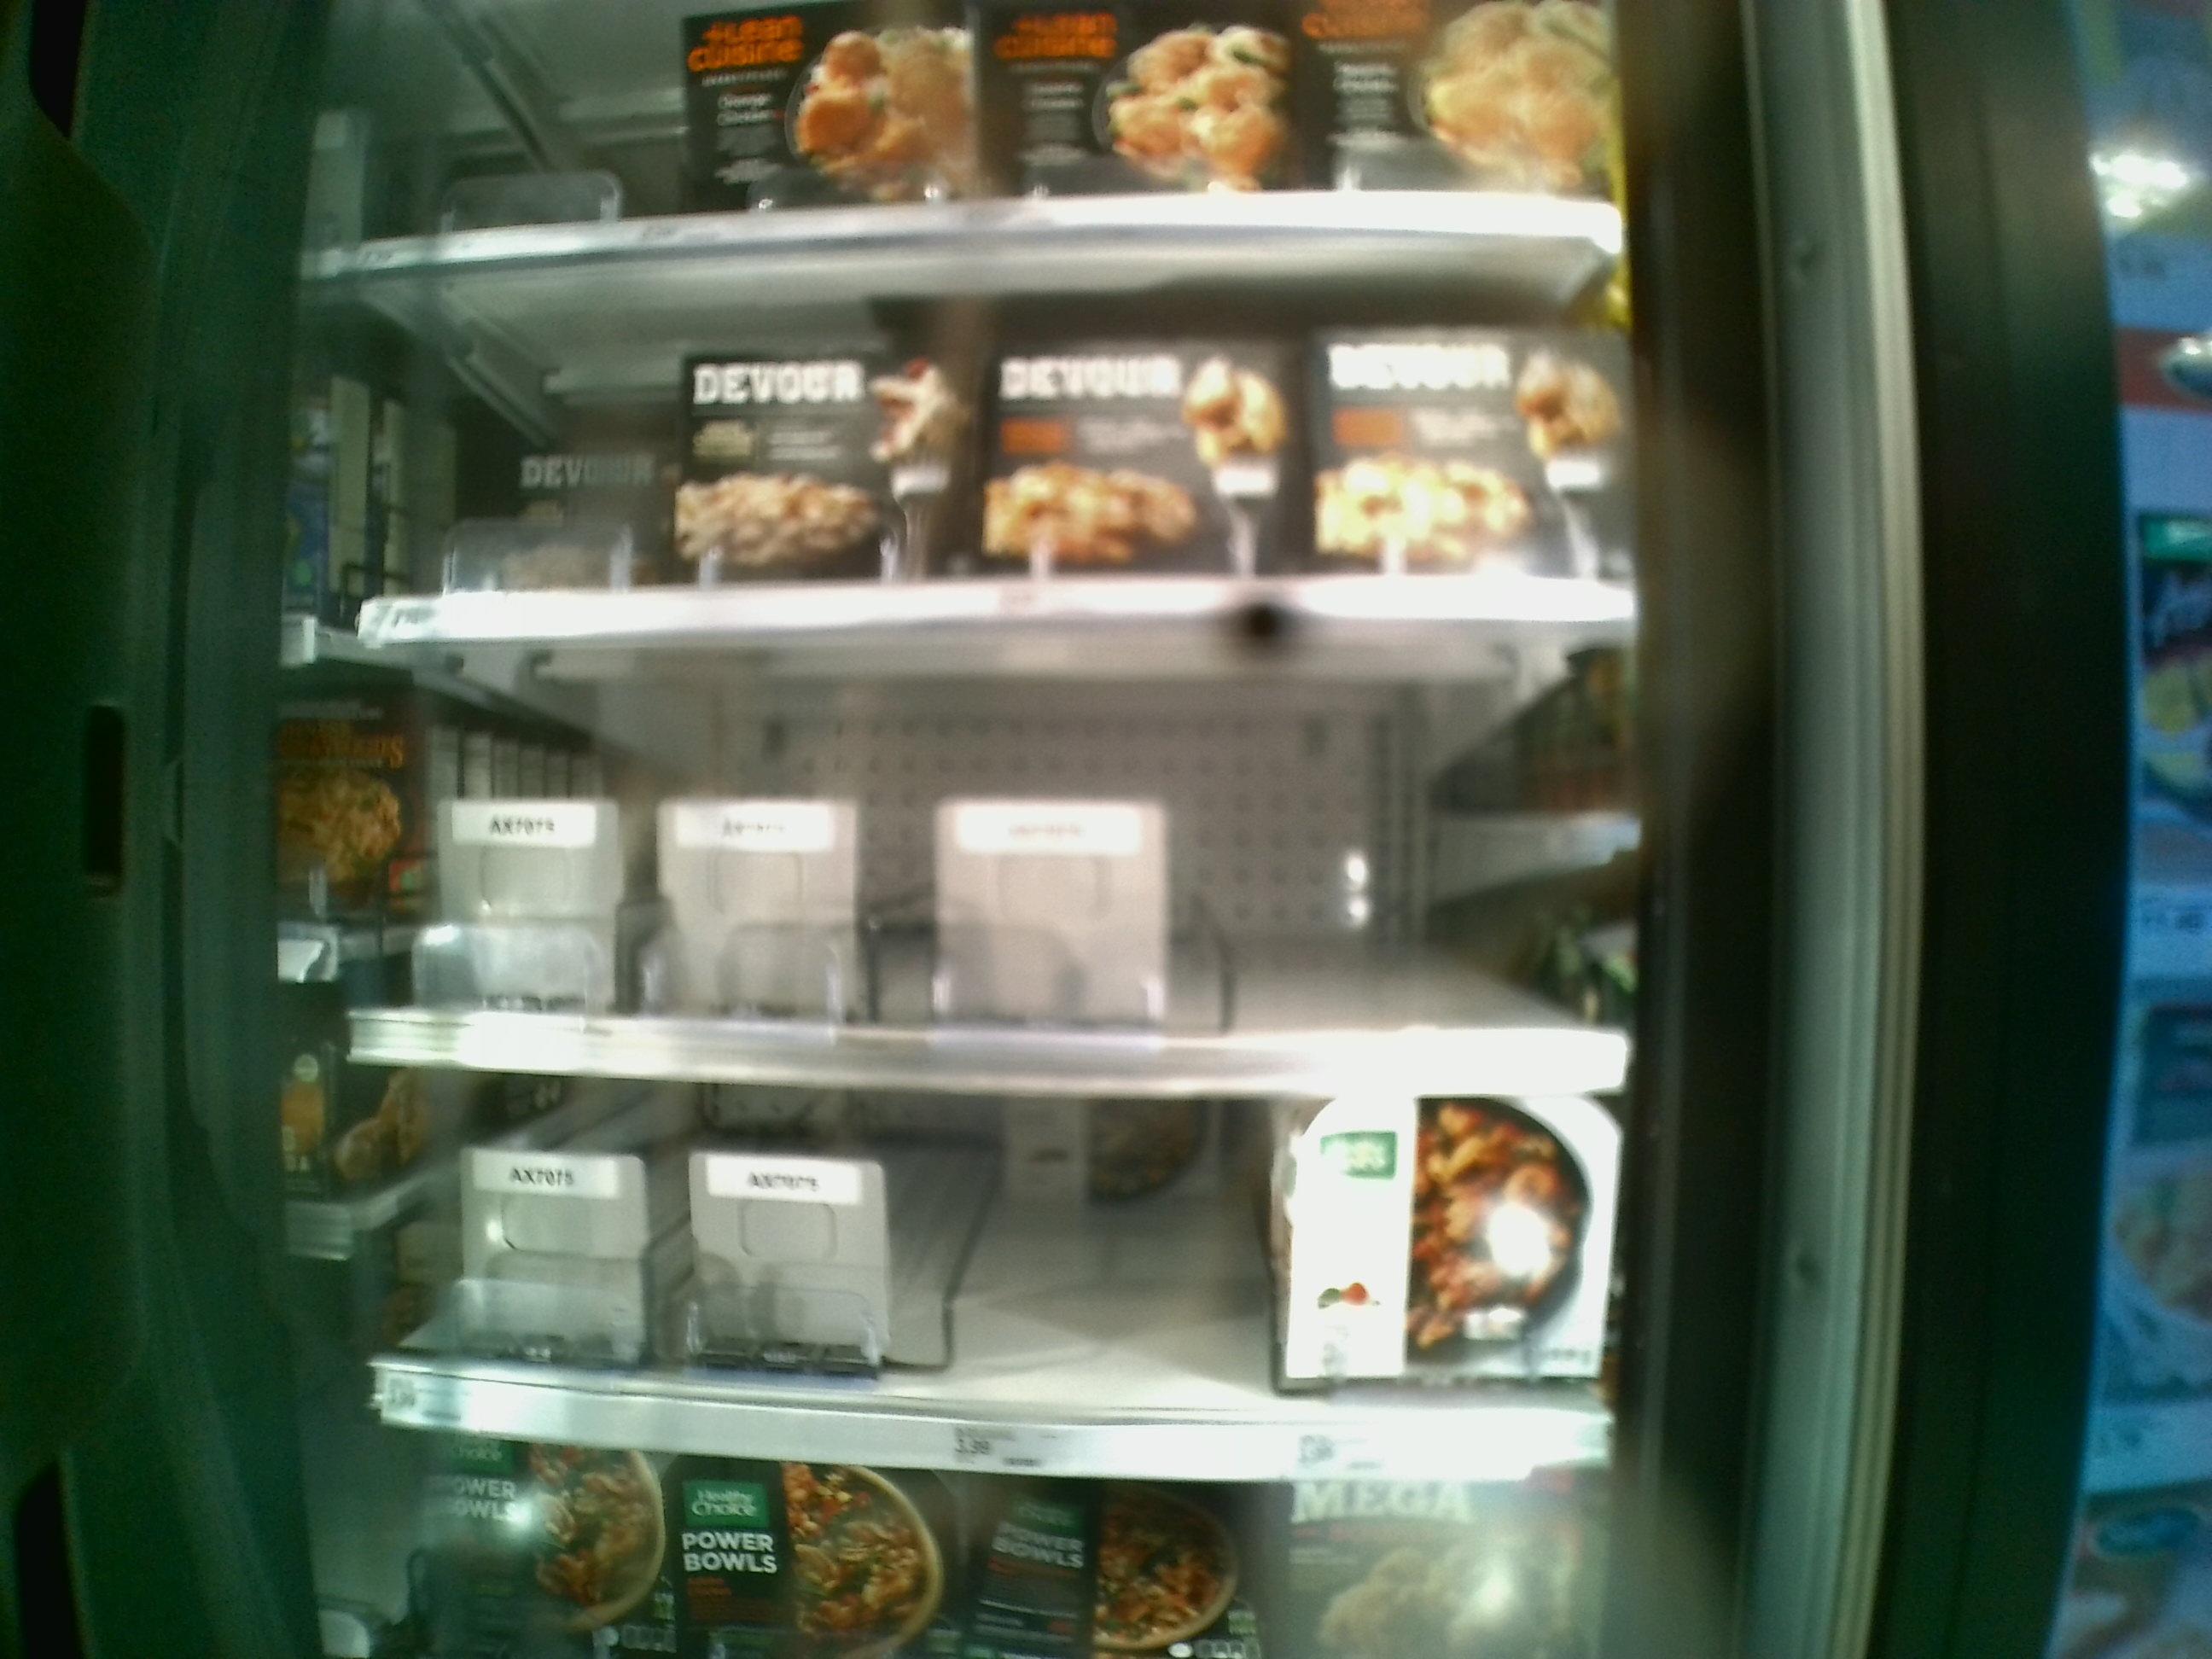Shelf: (350, 627, 1644, 1093), (331, 227, 1622, 626), (348, 1070, 1615, 1469)
